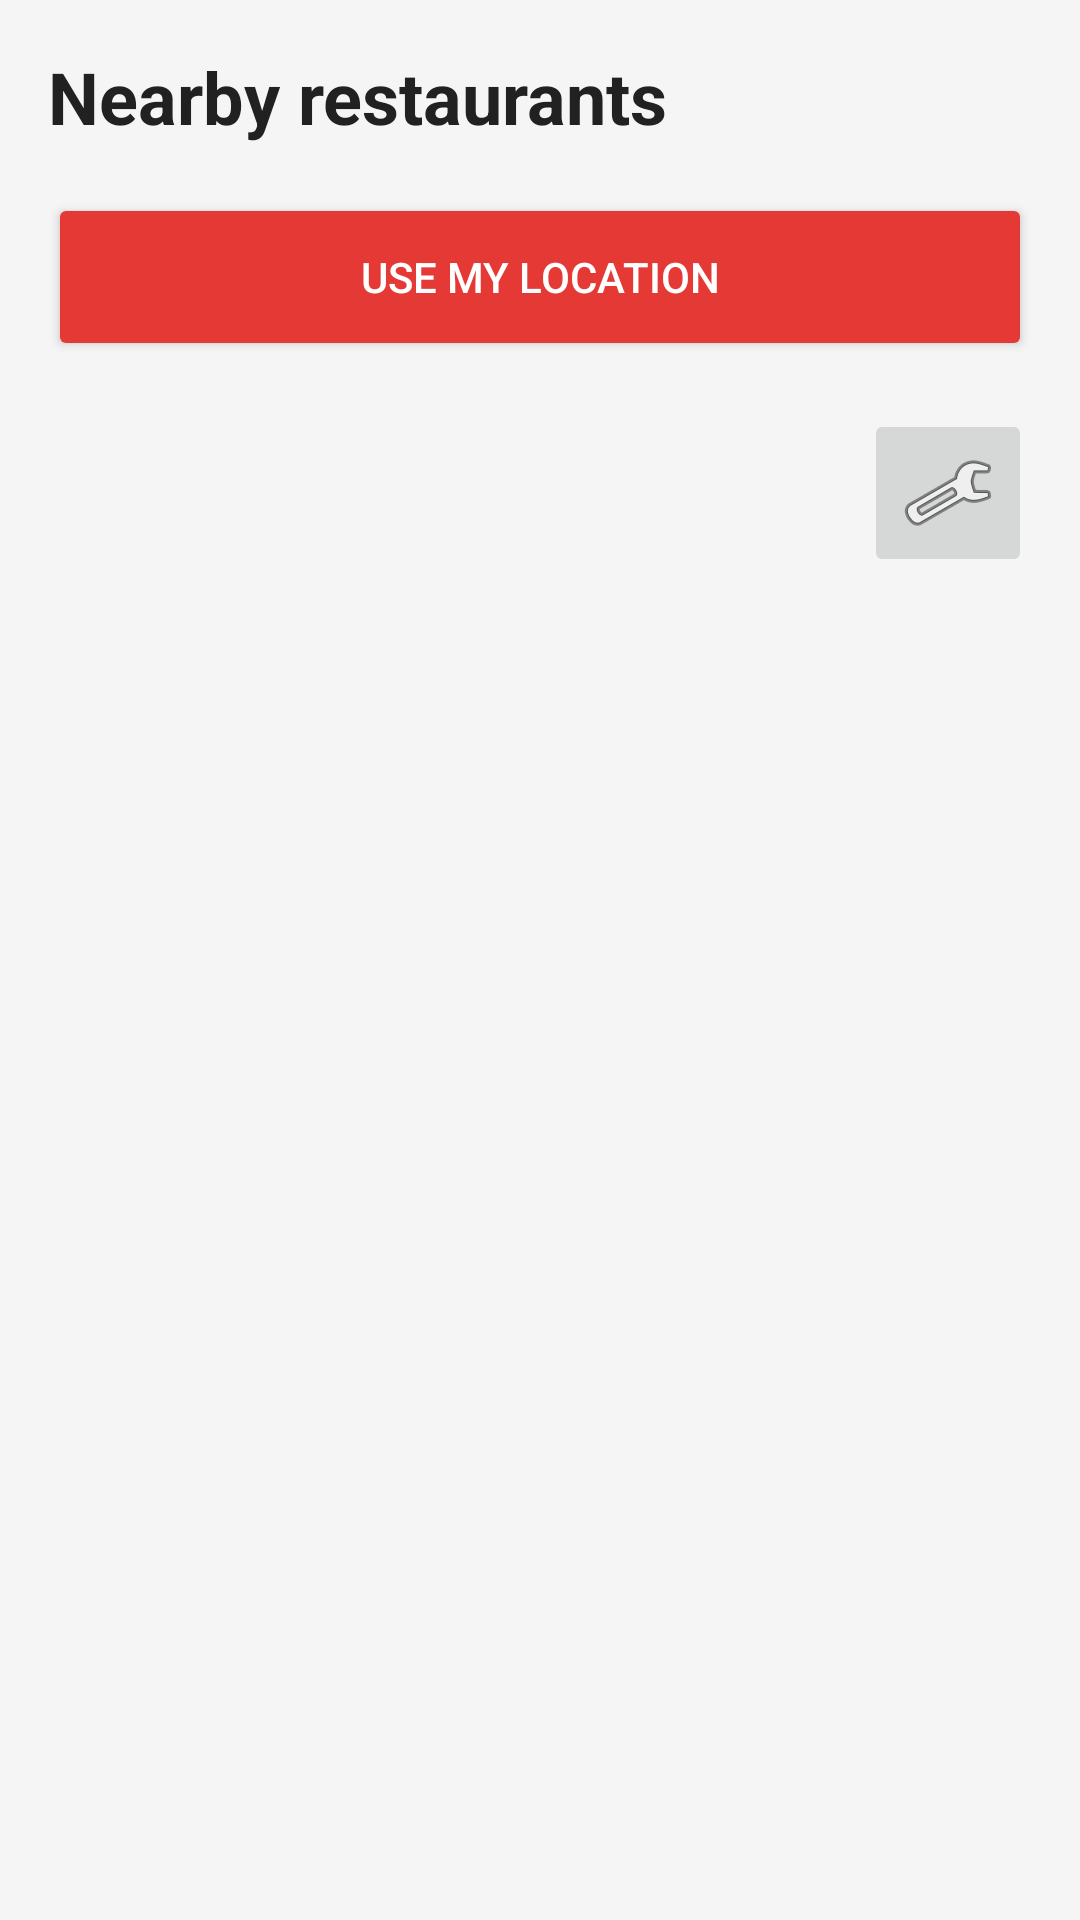

Icon click points for this 1080px x 1920px phone screenshot, format (x,y):
Settings: (948,493)
